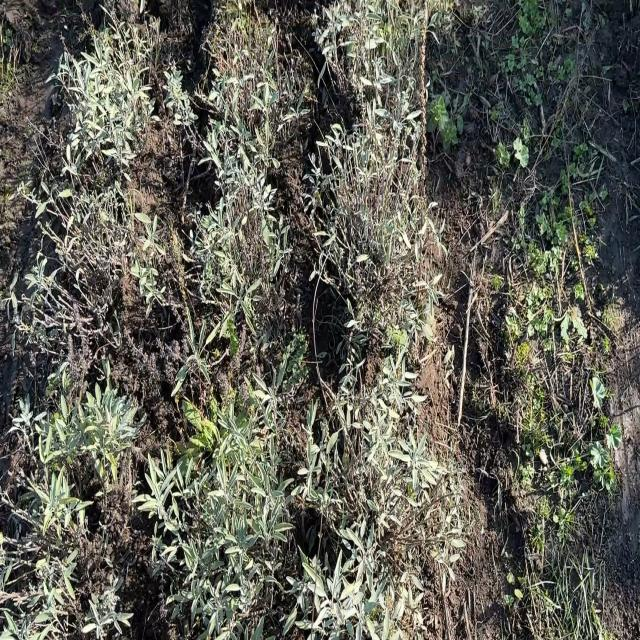plant: (320, 384, 449, 619), (10, 393, 132, 634), (163, 408, 288, 617), (41, 189, 165, 344), (60, 36, 158, 182), (203, 188, 290, 352), (199, 0, 291, 150)
